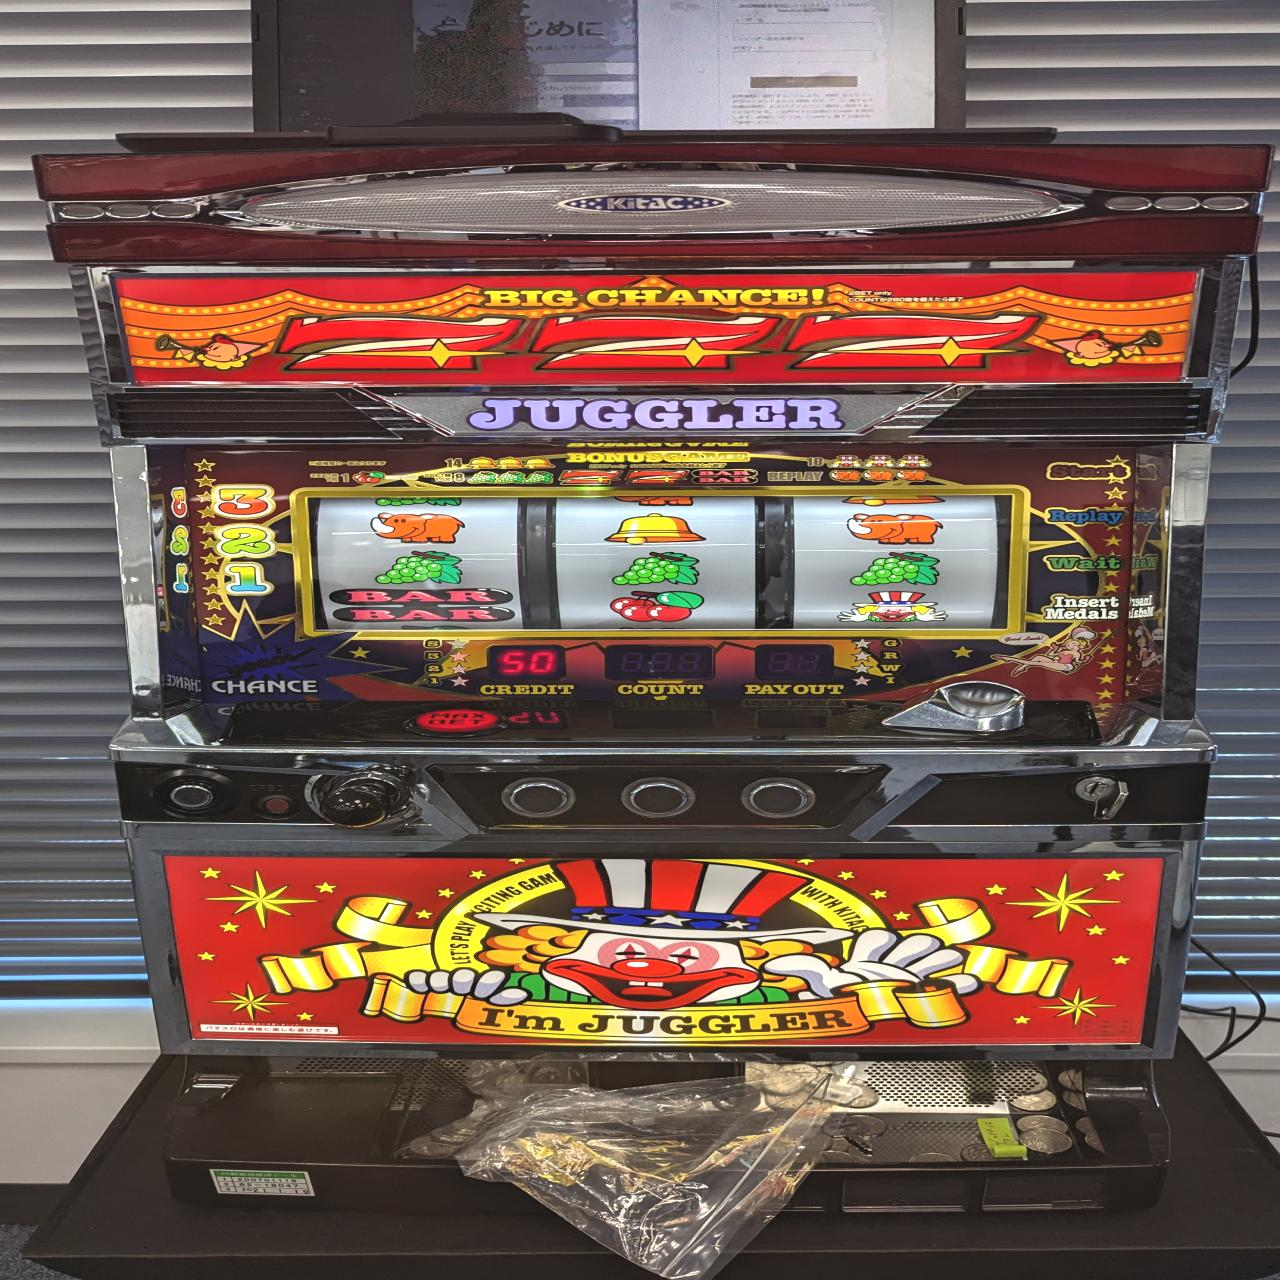8: (365, 510, 469, 544), (846, 510, 945, 545)
Display: (299, 490, 1015, 635)
bar: (329, 587, 512, 622)
bell: (602, 513, 708, 545)
cherry: (608, 590, 709, 621)
clown: (836, 591, 948, 627)
grape: (374, 549, 468, 585), (612, 551, 700, 588), (851, 552, 940, 587)
